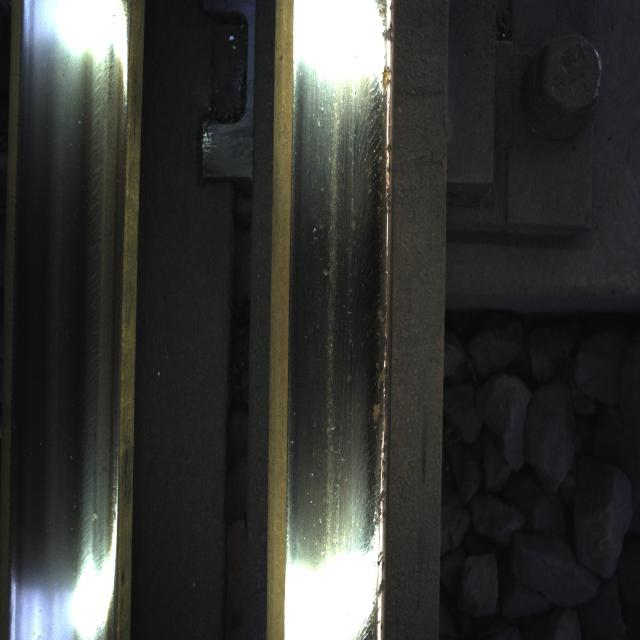normal: (39, 41, 116, 562)
scar: (346, 32, 395, 560)
